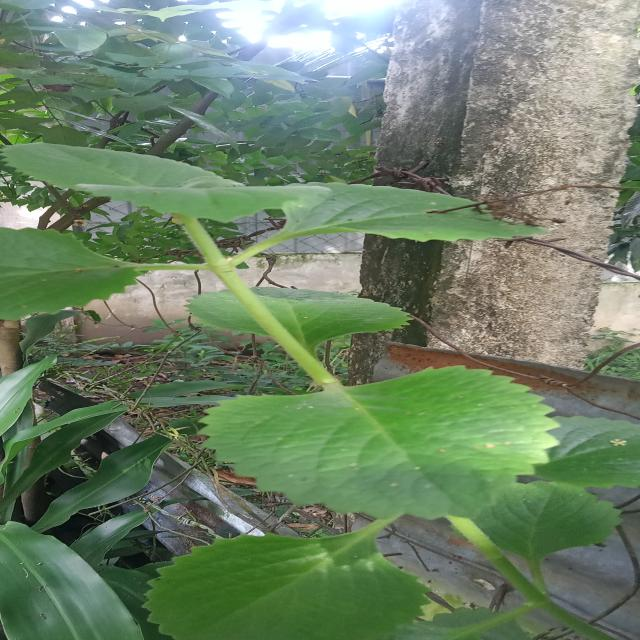Oregano: (100, 364, 640, 640), (0, 117, 640, 341)
